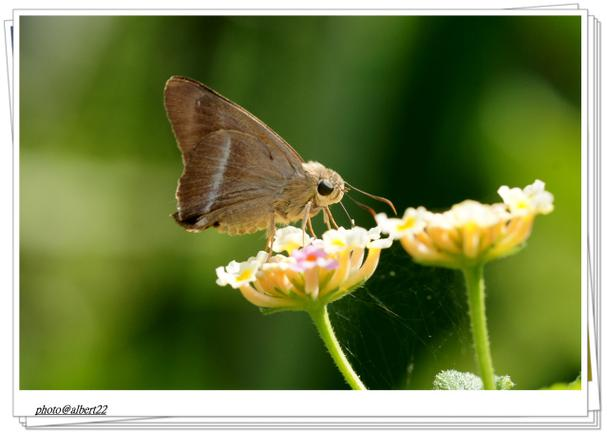Hesperiidae: (160, 72, 408, 246)
